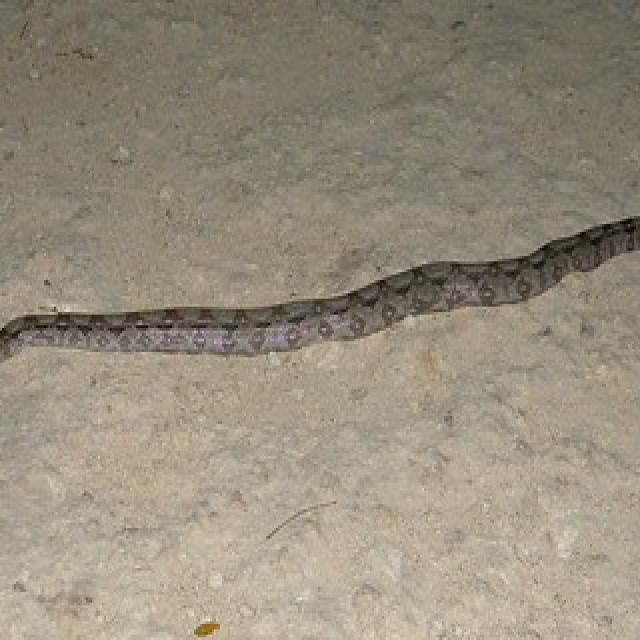Snake: (0, 200, 640, 371)
